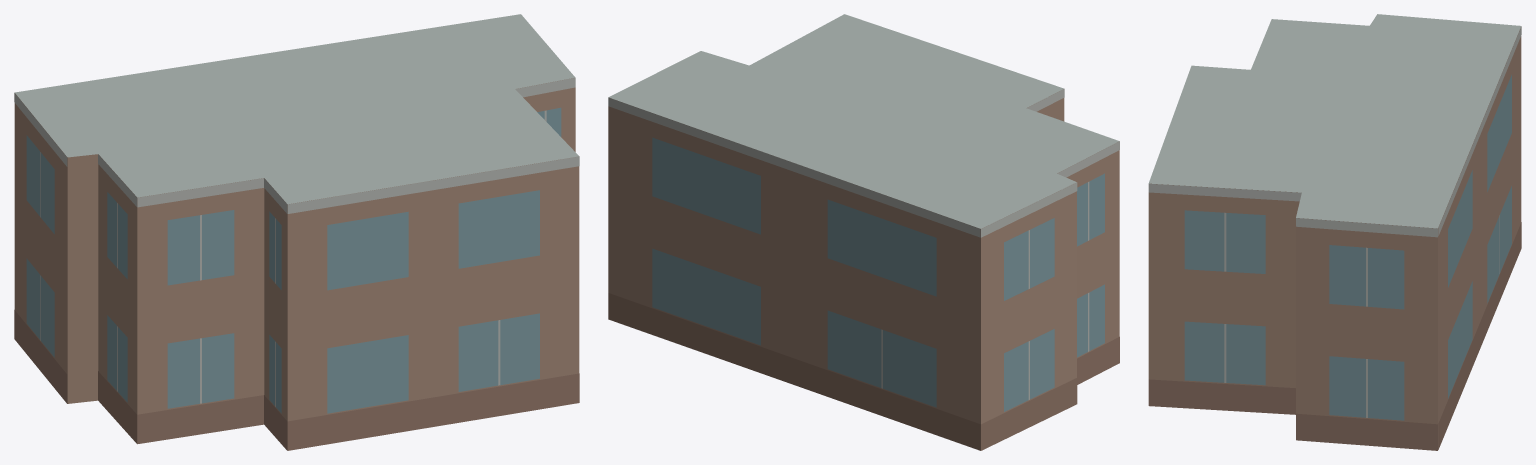
The model's file is survey-upis-33010677.glb.
3 renders of one model, left to right at view 1: azimuth 30°, elevation 25°; view 2: azimuth 150°, elevation 25°; view 3: azimuth 270°, elevation 25°, orthographic. The views are drawn at different scales.
Visible parts, largest first — view 1: survey-upis-33010677.tmp; view 2: survey-upis-33010677.tmp; view 3: survey-upis-33010677.tmp.
Part boxes in pixels (<box>): survey-upis-33010677.tmp: <box>14,14,579,450</box>; survey-upis-33010677.tmp: <box>608,14,1119,450</box>; survey-upis-33010677.tmp: <box>1148,14,1521,450</box>.
Bounding box in the file's own units: 12.62 × 6.1 × 9.28.
